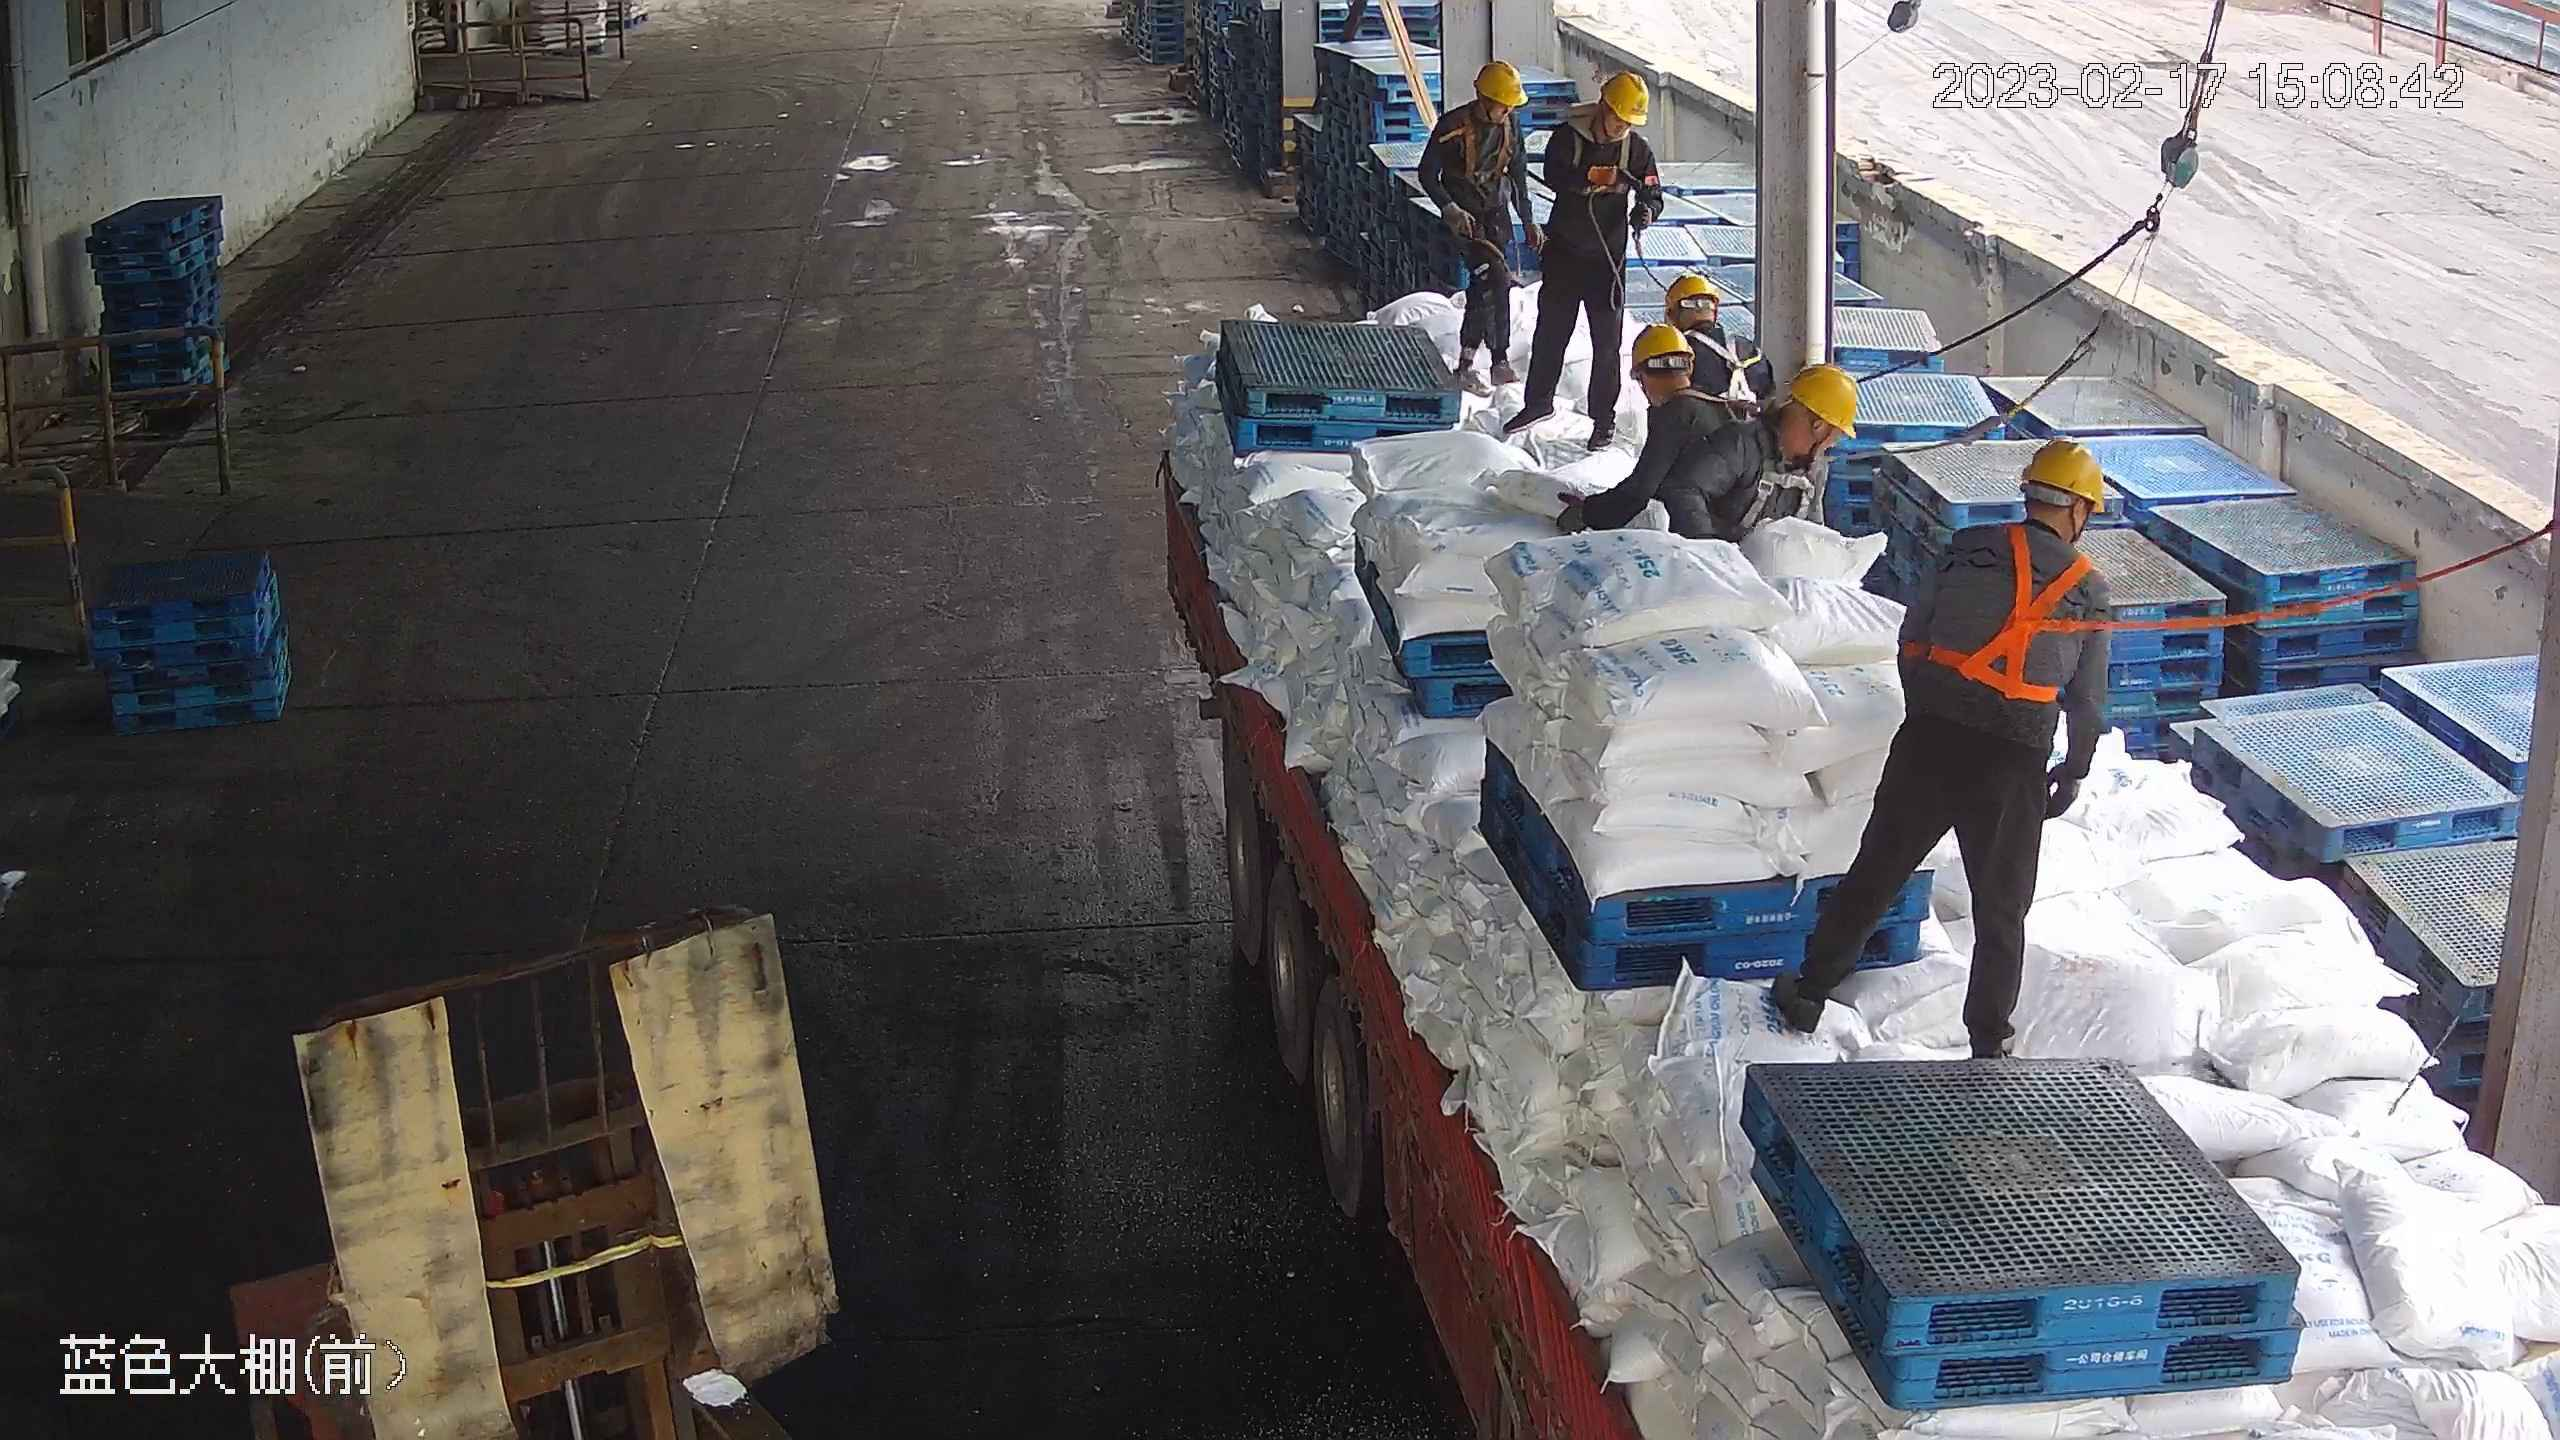belt: (1902, 519, 2107, 713), (1722, 438, 1839, 527), (1688, 322, 1790, 404), (1565, 123, 1655, 184), (1462, 110, 1526, 190), (1680, 377, 1758, 432)
head: (1903, 437, 2108, 644), (1563, 322, 1745, 501), (1678, 364, 1856, 526), (1664, 274, 1779, 403), (1552, 72, 1661, 182), (1436, 60, 1531, 153)
helmet: (2019, 435, 2104, 517), (1791, 363, 1857, 440), (1629, 325, 1697, 383), (1599, 70, 1651, 128), (1472, 62, 1530, 109), (1666, 274, 1719, 318)
people: (1771, 430, 2127, 1066), (1498, 72, 1662, 452), (1417, 59, 1542, 408)
truck: (1156, 342, 2560, 1440)
